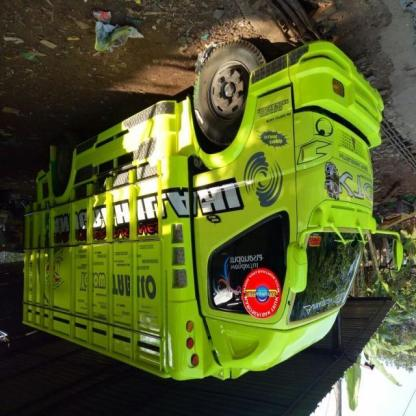truck: (21, 36, 403, 393)
